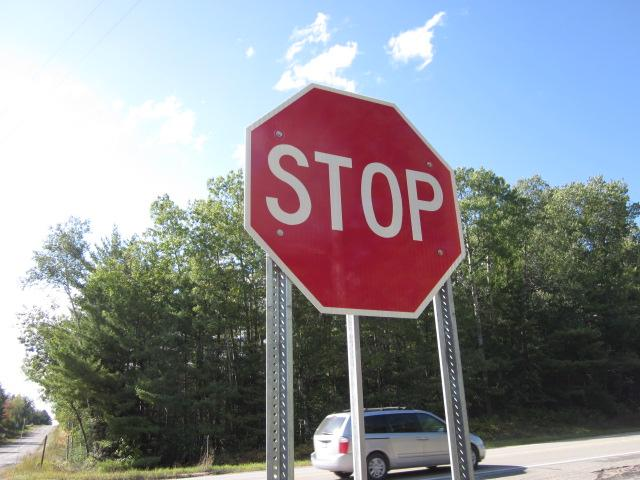stop: (235, 79, 469, 322)
